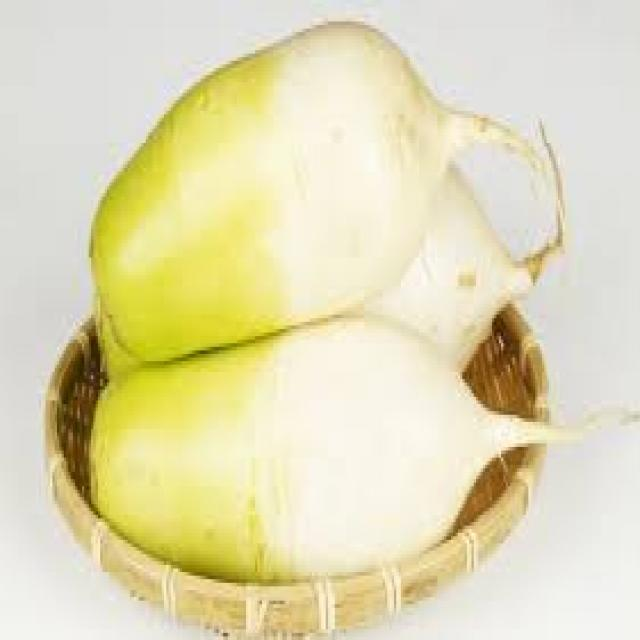raddish: (93, 21, 449, 374), (91, 318, 563, 581)
